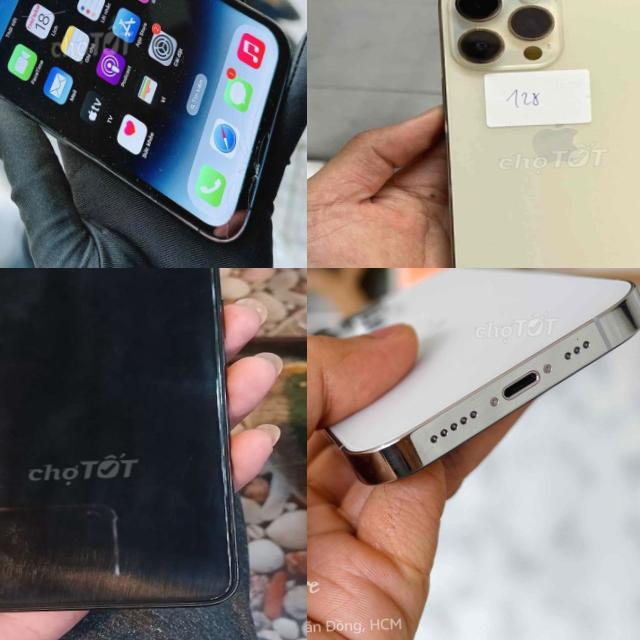gen_11: (0, 268, 246, 619)
gen_14: (0, 0, 298, 259), (307, 268, 640, 495), (423, 0, 640, 268)
physical_damage: (6, 0, 82, 28), (210, 200, 252, 246), (235, 156, 277, 200), (224, 84, 272, 122), (226, 119, 270, 158), (216, 158, 236, 192)
scratch: (210, 412, 248, 598), (192, 268, 232, 363)
